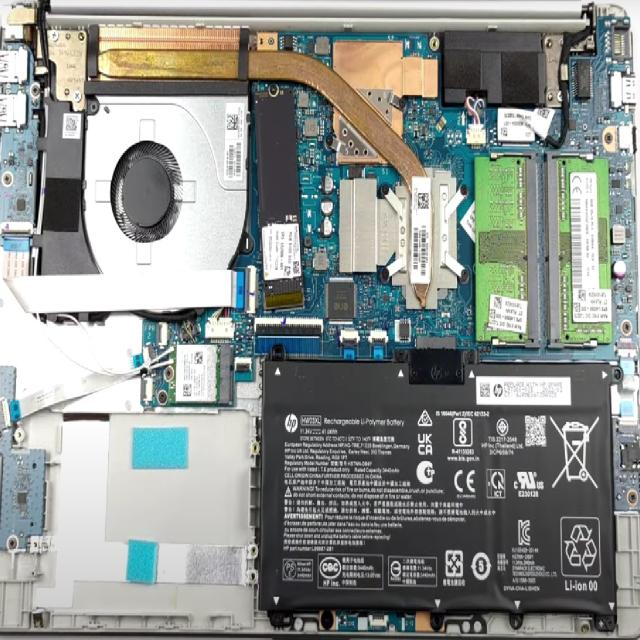battery: (276, 391, 620, 616)
innerscrew: (72, 90, 79, 102), (160, 393, 167, 405)
ram: (545, 147, 615, 348), (473, 152, 538, 348)
ssd: (254, 92, 302, 294)
wifi: (169, 343, 223, 408)
